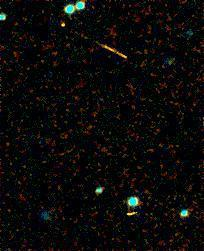star: (46, 8, 76, 38)
